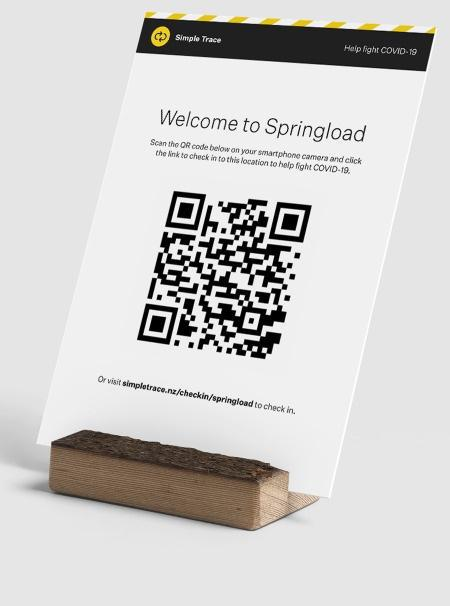Finder pattern: (134, 302, 178, 347), (270, 200, 312, 243), (166, 190, 206, 229)
